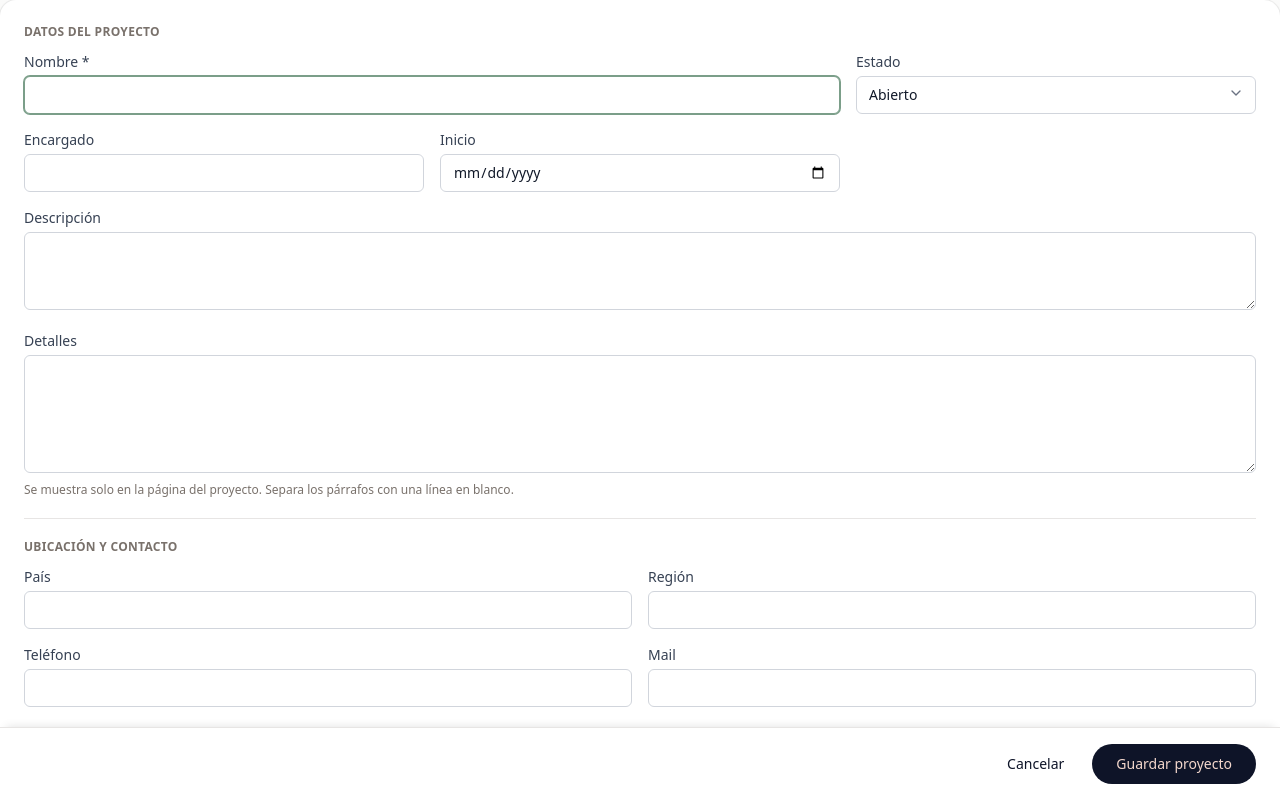
Test: ProjectForm › requires a name
Click the button "Guardar proyecto" at coordinates (1174, 764), box [1092, 744, 1256, 784]
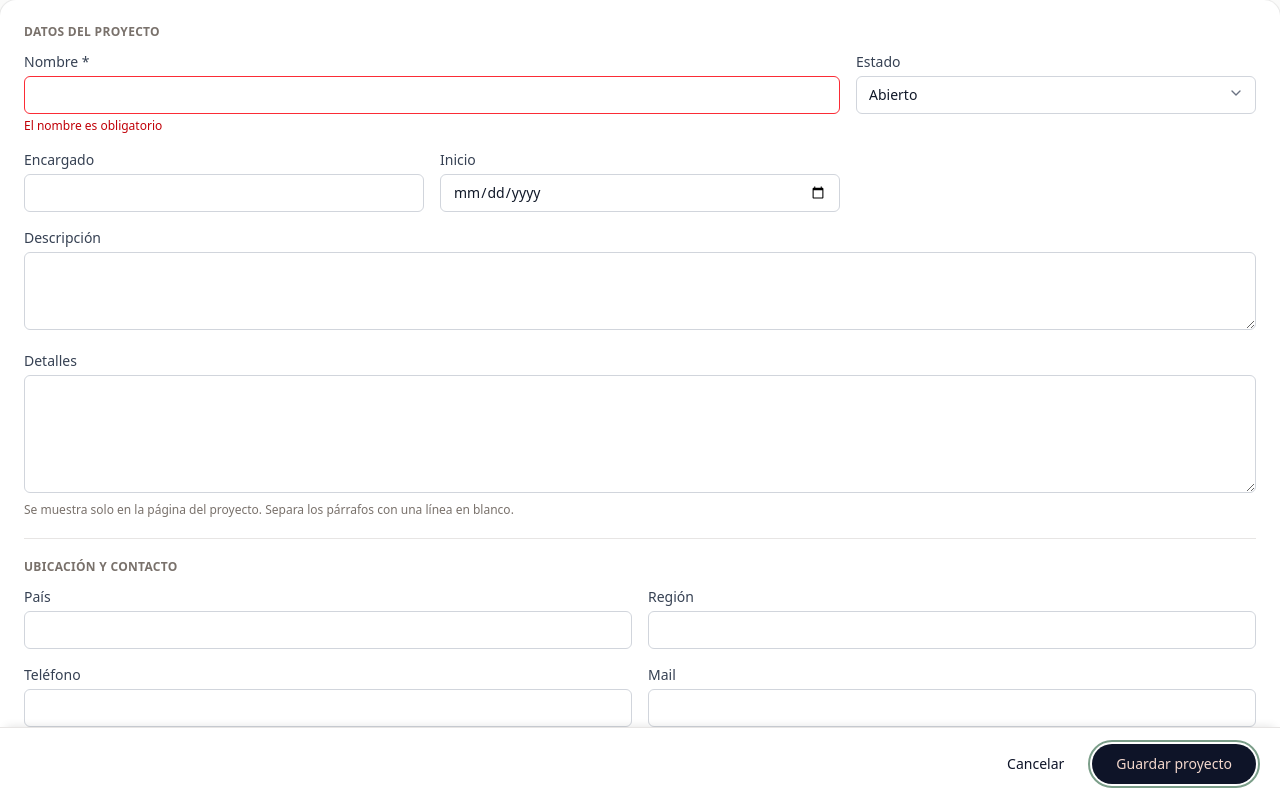
Now the text "El nombre es obligatorio" is shown, box [24, 117, 162, 134]
